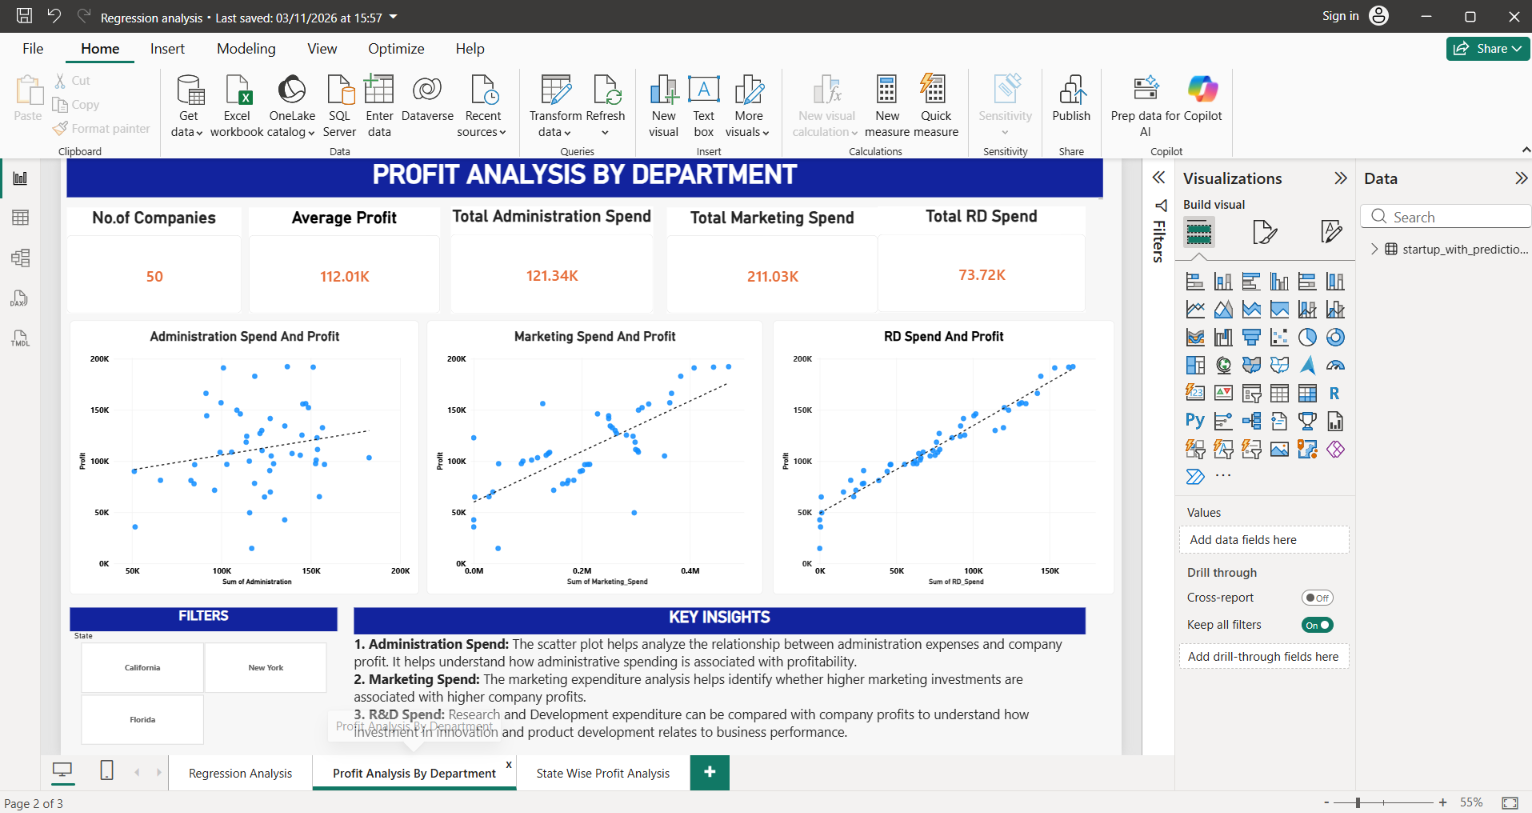

The page's visual inventory and layout, read from the dashboard file:
{"tool":"powerbi","page":{"name":"Profit Analysis By Department","canvas":[1920,1080],"ordinal":1},"visuals":[{"type":"textbox","title":"PROFIT ANALYSIS BY DEPARTMENT","box":[10.3,0,1875.1,74.1],"z":0},{"type":"cardVisual","title":"No.of Companies","fields":{"Data":["CountNonNull(startup_with_predictions.Startup_ID)"]},"box":[10,88,316,192],"z":1000},{"type":"cardVisual","title":"Average Profit","fields":{"Data":["Avg(startup_with_predictions.Profit)"]},"box":[340,88,346,192],"z":2000},{"type":"cardVisual","title":"Total Marketing Spend","fields":{"Data":["Avg(startup_with_predictions.Marketing_Spend)"]},"box":[1096,88,382,192],"z":3000},{"type":"cardVisual","title":"Total RD Spend","fields":{"Data":["Avg(startup_with_predictions.RD_Spend)"]},"box":[1478,86,376,192],"z":4000},{"type":"cardVisual","title":"Total Administration Spend","fields":{"Data":["Avg(startup_with_predictions.Administration)"]},"box":[706,86,366,194],"z":5000},{"type":"scatterChart","title":"Administration Spend And Profit","fields":{"Y":["startup_with_predictions.Profit"],"X":["Sum(startup_with_predictions.Administration)"]},"box":[16,294,632,496],"z":6000},{"type":"scatterChart","title":"Marketing Spend And Profit","fields":{"X":["Sum(startup_with_predictions.Marketing_Spend)"],"Y":["startup_with_predictions.Profit"]},"box":[662,294,608,496],"z":7000},{"type":"scatterChart","title":"RD Spend And Profit","fields":{"Y":["startup_with_predictions.Profit"],"X":["Sum(startup_with_predictions.RD_Spend)"]},"box":[1288,294,618,496],"z":8000},{"type":"slicer","title":"FILTERS","fields":{"Values":["startup_with_predictions.State"]},"box":[16,812,484,250],"z":9000},{"type":"textbox","title":"KEY INSIGHTS","box":[530,812,1324,268],"z":10000}]}

Visuals, with their boxes on the page's 1920x1080 design canvas (x1, y1, x2, y2). These are canvas units, not pixel positions in the 1532x813 screenshot, which may show the page scaled, cropped or inside an application window:
"PROFIT ANALYSIS BY DEPARTMENT" textbox: bbox=[10, 0, 1885, 74]
"No.of Companies" cardVisual: bbox=[10, 88, 326, 280]
"Average Profit" cardVisual: bbox=[340, 88, 686, 280]
"Total Marketing Spend" cardVisual: bbox=[1096, 88, 1478, 280]
"Total RD Spend" cardVisual: bbox=[1478, 86, 1854, 278]
"Total Administration Spend" cardVisual: bbox=[706, 86, 1072, 280]
"Administration Spend And Profit" scatterChart: bbox=[16, 294, 648, 790]
"Marketing Spend And Profit" scatterChart: bbox=[662, 294, 1270, 790]
"RD Spend And Profit" scatterChart: bbox=[1288, 294, 1906, 790]
"FILTERS" slicer: bbox=[16, 812, 500, 1062]
"KEY INSIGHTS" textbox: bbox=[530, 812, 1854, 1080]
